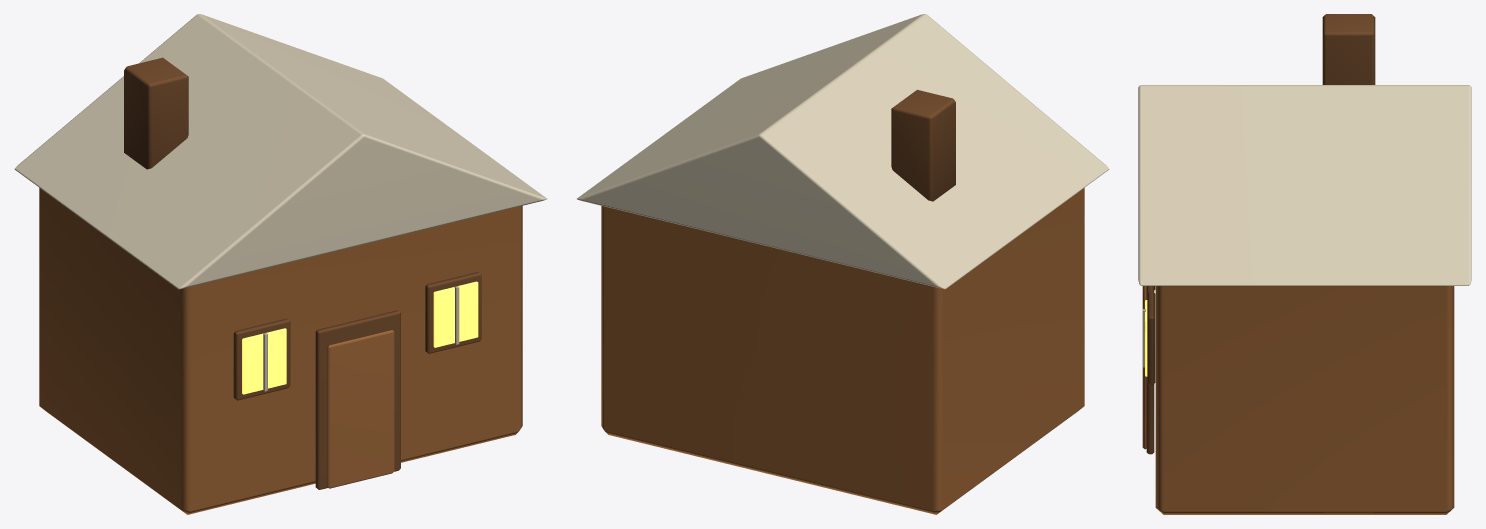
The model's file is cabin.glb.
3 renders of one model, left to right at view 1: azimuth 30°, elevation 25°; view 2: azimuth 150°, elevation 25°; view 3: azimuth 270°, elevation 25°, orthographic.
Parts seen in each view (by area): view 1: cabin; view 2: cabin; view 3: cabin.
Part boxes in pixels (left/top/right/bottom): cabin: left=14, top=14, right=546, bottom=514; cabin: left=577, top=14, right=1109, bottom=514; cabin: left=1138, top=14, right=1471, bottom=514.
Bounding box in the file's own units: 4.86 × 4.55 × 3.8.
